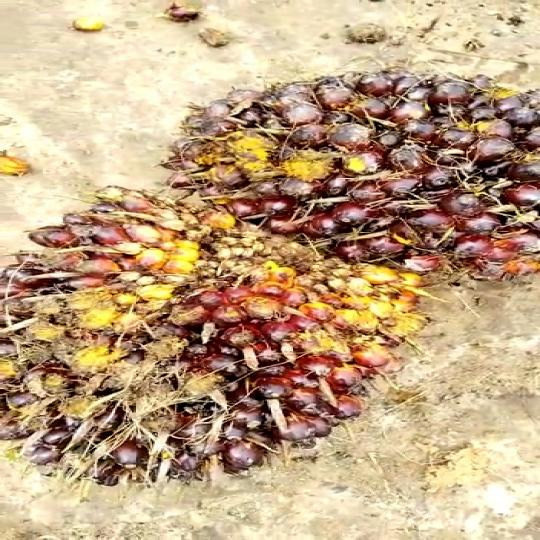kurang masak: (0, 201, 424, 488), (145, 56, 540, 309)
